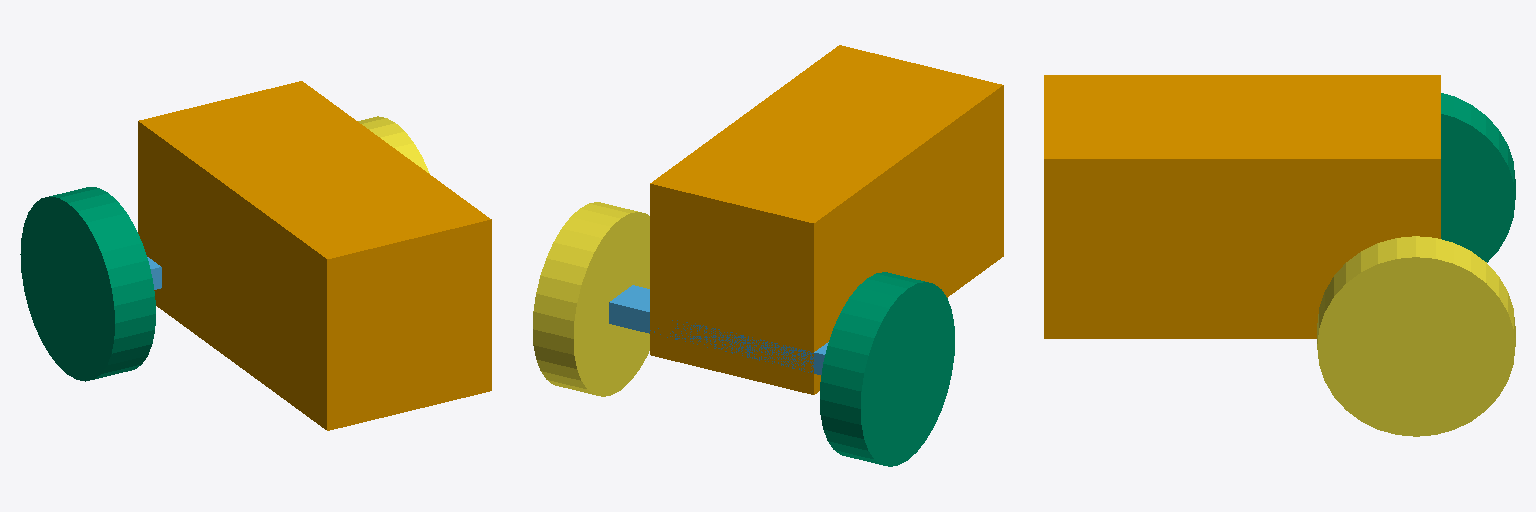
robot.urdf — car_suspension:
<?xml version="1.0" ?>
<robot name="car_suspension">
  <link name="car_body">
    <visual>
        <geometry>
            <box size="0.4 0.8 0.4"/>
        </geometry>
    </visual>
    <collision>
        <geometry>
            <box size="0.4 0.8 0.2"/>
        </geometry>
    </collision>
    <inertial>
        <mass value="100"/>
        <inertia ixx="10.0" ixy="0.0" ixz="0.0" iyy="10.0" iyz="0.0" izz="10.0"/>
    </inertial>
  </link>

  <joint name="suspension_front" type="prismatic">
    <origin rpy="0 0 0" xyz="0.0 0.35 0.0"/>
    <axis xyz="0 0 1"/>
    <parent link="car_body"/>
    <child link="front_wheel_body"/>
    <dynamics damping="0.8"/>
    <limit effort="10000" lower="-0.05" upper="0.05" velocity="2.0"/>
  </joint>

    <link name="front_wheel_body">
        <visual>
            <geometry>
                <box size="0.6 0.1 0.05"/>
            </geometry>
            <origin rpy="0 0 0" xyz="0.0 0.0 -0.125"/>
        </visual>
        <collision>
            <geometry>
                <box size="0.6 0.1 0.05"/>
            </geometry>
            <origin rpy="0 0 0" xyz="0.0 0.0 -0.125"/>
        </collision>
        <inertial>
            <mass value="1"/>
            <inertia ixx="0.1" ixy="0.0" ixz="0.0" iyy="0.1" iyz="0.0" izz="0.1"/>
        </inertial>
    </link>

  <joint name="front_body_to_left_wheel" type="continuous">
    <origin rpy="0 0 0" xyz="-0.3 0 -0.125"/>
    <axis xyz="1 0 0"/>
    <parent link="front_wheel_body"/>
    <child link="front_wheel_left"/>
    <limit effort="10000" velocity="2.0"/>
  </joint>
  
    <link name="front_wheel_left">
        <visual>
            <geometry>
                <cylinder radius="0.2" length="0.1"/>
            </geometry>
            <origin rpy="0 -1.57 0" xyz="-0.05 0.0 0.0"/>
        </visual>
        <collision>
            <geometry>
                <cylinder radius="0.2" length="0.1"/>
            </geometry>
            <origin rpy="0 -1.57 0" xyz="-0.05 0.0 0.0"/>
        </collision>
        <inertial>
            <mass value="1"/>
            <inertia ixx="0.1" ixy="0.0" ixz="0.0" iyy="0.1" iyz="0.0" izz="0.1"/>
        </inertial>
    </link>

  <joint name="front_body_to_right_wheel" type="continuous">
    <origin rpy="0 0 0" xyz="0.3 0 -0.125"/>
    <axis xyz="1 0 0"/>
    <parent link="front_wheel_body"/>
    <child link="front_wheel_right"/>
    <limit effort="10000" velocity="2.0"/>
  </joint>
  
    <link name="front_wheel_right">
        <visual>
            <geometry>
                <cylinder radius="0.2" length="0.1"/>
            </geometry>
            <origin rpy="0 -1.57 0" xyz="0.05 0.0 0.0"/>
        </visual>
        <collision>
            <geometry>
                <cylinder radius="0.2" length="0.1"/>
            </geometry>
            <origin rpy="0 -1.57 0" xyz="0.05 0.0 0.0"/>
        </collision>
        <inertial>
            <mass value="1"/>
            <inertia ixx="0.1" ixy="0.0" ixz="0.0" iyy="0.1" iyz="0.0" izz="0.1"/>
        </inertial>
    </link>

    <gazebo reference="front_wheel_right">
        <collision name='front_wheel_right_collision'>
        <surface>
        <friction>
        <ode>
        <mu>0.7</mu>
        <mu2>0.7</mu2>
        <fdir1>1 0 0</fdir1>
        </ode>
        </friction>
        <contact>
        <ode>
        <kp>1e+13</kp>
        <kd>1</kd>
        <max_vel>10.0</max_vel>
        </ode>
        </contact>
        <bounce>
        <restitution_coefficient>0.0</restitution_coefficient>
        <threshold>0.00</threshold>
        </bounce>
        </surface>
        </collision>
    </gazebo>

    <gazebo reference="front_wheel_left">
        <collision name='front_wheel_right_collision'>
        <surface>
        <friction>
        <ode>
        <mu>0.7</mu>
        <mu2>0.7</mu2>
        <fdir1>1 0 0</fdir1>
        </ode>
        </friction>
        <contact>
        <ode>
        <kp>1e+13</kp>
        <kd>1</kd>
        <max_vel>10.0</max_vel>
        </ode>
        </contact>
        <bounce>
        <restitution_coefficient>0.0</restitution_coefficient>
        <threshold>0.00</threshold>
        </bounce>
        </surface>
        </collision>
    </gazebo>
</robot>

--- Facts derived from the render (not from the file) ---
The picture shows the robot from 3 angles, left to right: view 1: azimuth 30°, elevation 25°; view 2: azimuth 150°, elevation 25°; view 3: azimuth 270°, elevation 25°; orthographic projection.
Model car_suspension with 4 links and 3 joints (2 continuous, 1 prismatic), rooted at car_body, posed every joint at zero.
Visible links, largest first — view 1: car_body, front_wheel_left, front_wheel_right; view 2: car_body, front_wheel_left, front_wheel_right, front_wheel_body; view 3: car_body, front_wheel_right, front_wheel_left.
Link boxes in pixels (x1=…): car_body: x1=138, y1=81, x2=491, y2=430; front_wheel_left: x1=20, y1=187, x2=155, y2=381; front_wheel_right: x1=358, y1=116, x2=429, y2=173; car_body: x1=650, y1=45, x2=1003, y2=394; front_wheel_left: x1=820, y1=272, x2=954, y2=466; front_wheel_right: x1=533, y1=202, x2=649, y2=396; front_wheel_body: x1=609, y1=285, x2=828, y2=374; car_body: x1=1044, y1=75, x2=1440, y2=338; front_wheel_right: x1=1317, y1=236, x2=1515, y2=436; front_wheel_left: x1=1441, y1=93, x2=1515, y2=262.
Size in the robot's own frame: 0.8003 by 0.95 by 0.525 metres.
Geometry: primitives only (box / cylinder / sphere), no mesh files.